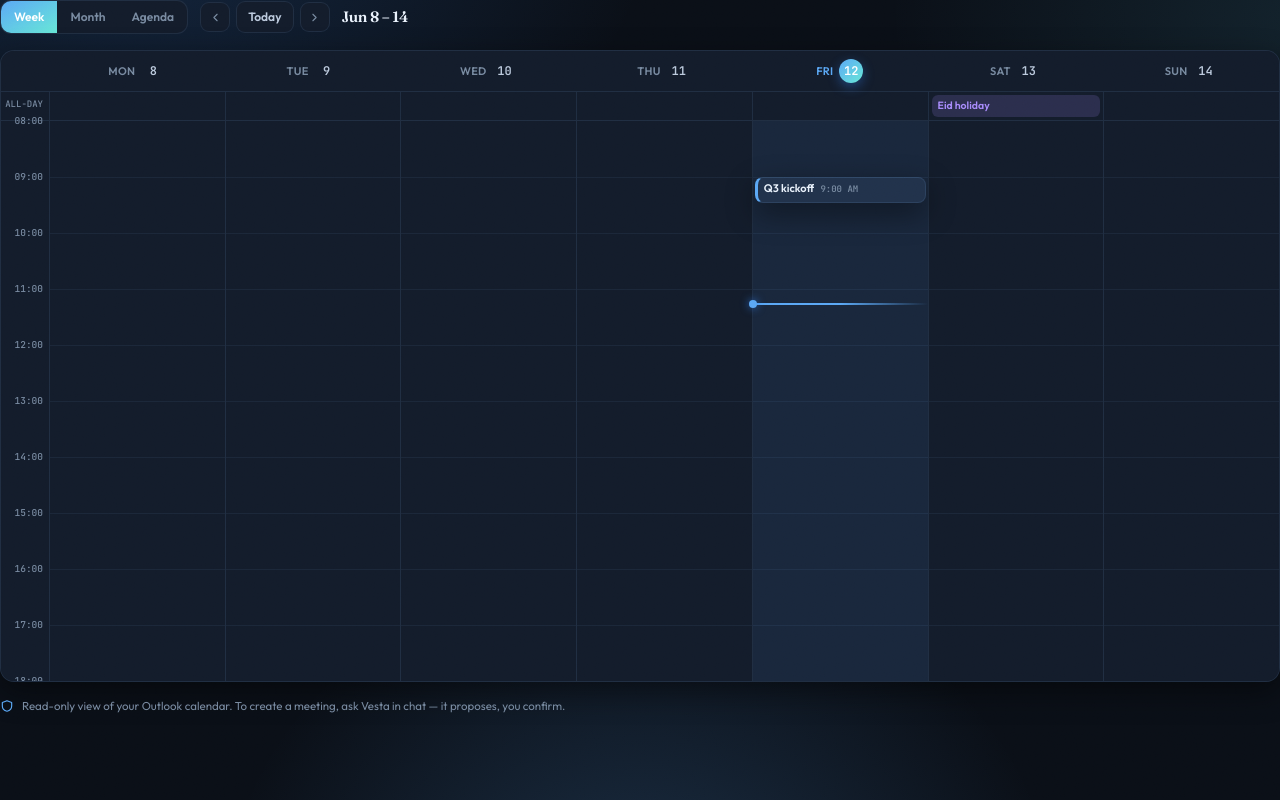
Test: MeetingsView › clicking a week block opens the detail card with Join, Outlook, and Prep
Click the button with aria-label "Q3 kickoff, 9:00 AM": click(840, 190) 755,177 -> 926,203
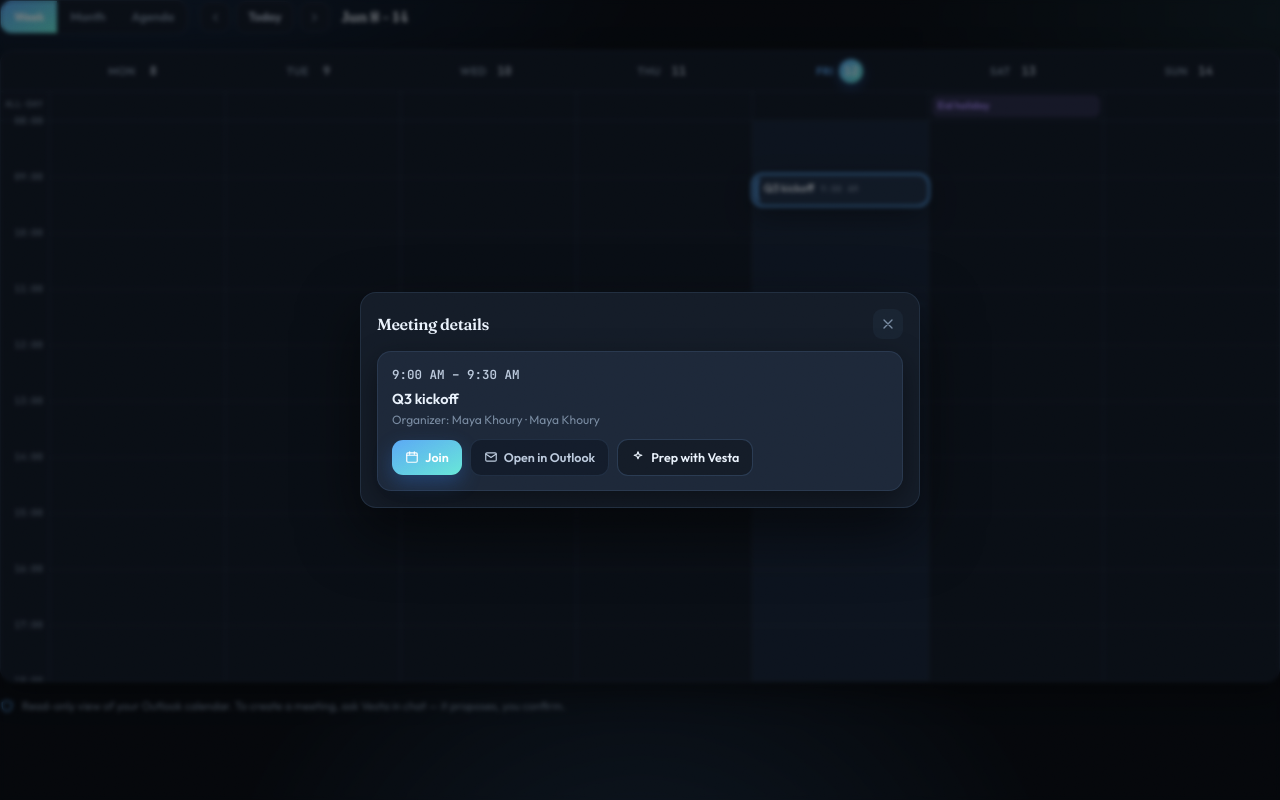
Expected: the heading "Q3 kickoff" is shown, 392,389 -> 459,408
Note: Prep runs from inside the overlay too.
Click the button "Prep with Vesta": click(685, 457) 617,439 -> 754,476
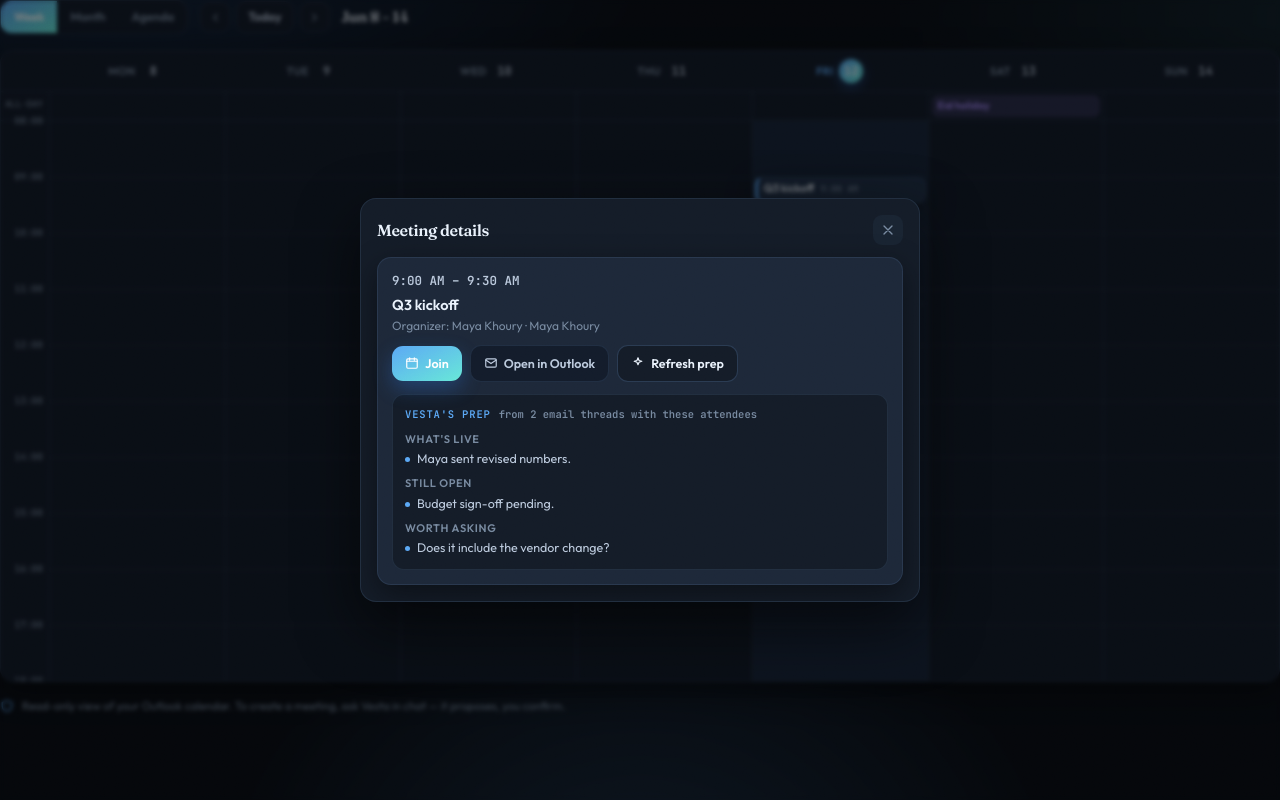
Expected: the list item "Maya sent revised numbers." is shown, 405,450 -> 571,466
